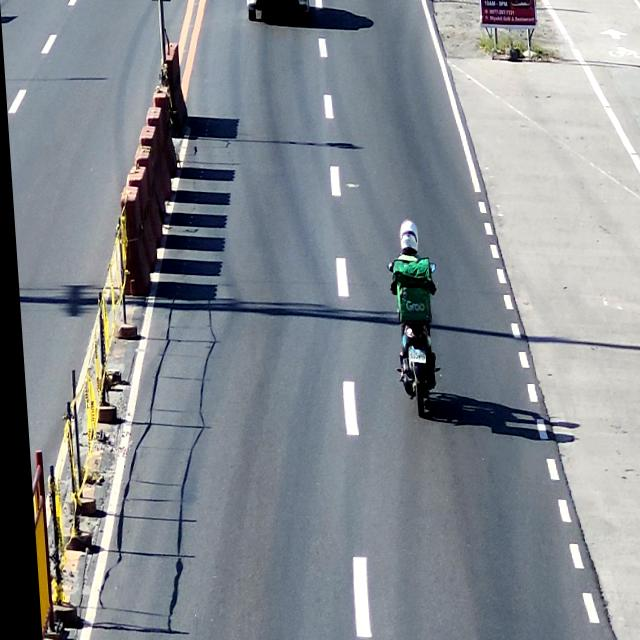Car: (246, 0, 313, 21)
License-Plate: (403, 344, 423, 368)
Motorcycle: (380, 244, 443, 422)
